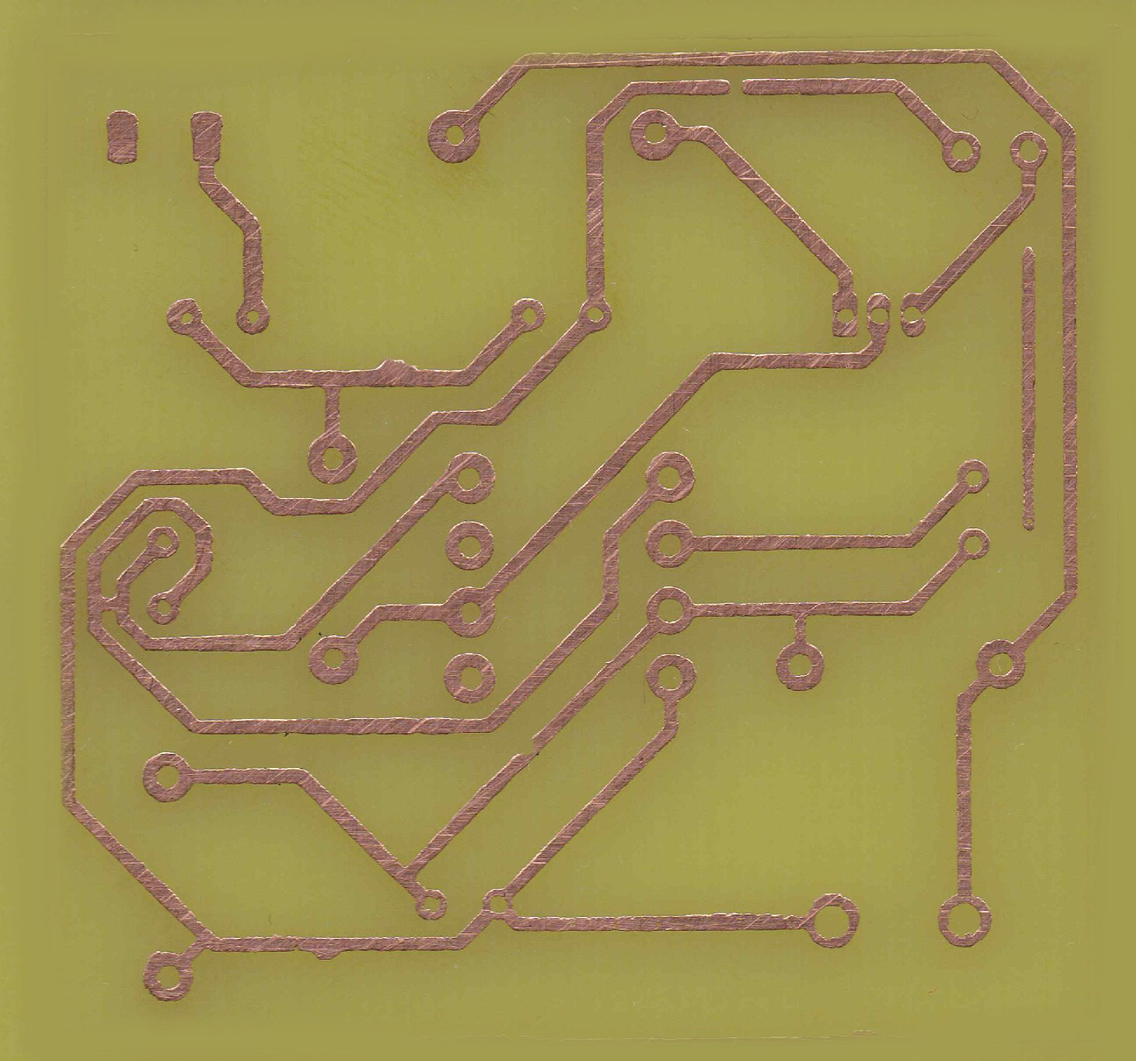missing_hole: (895, 286, 932, 339)
mouse_bite: (510, 731, 541, 766)
open_circuit: (720, 72, 755, 100)
short: (82, 587, 133, 616)
spur: (375, 352, 418, 394), (312, 931, 346, 964)
spurious_copper: (1014, 241, 1042, 542)
